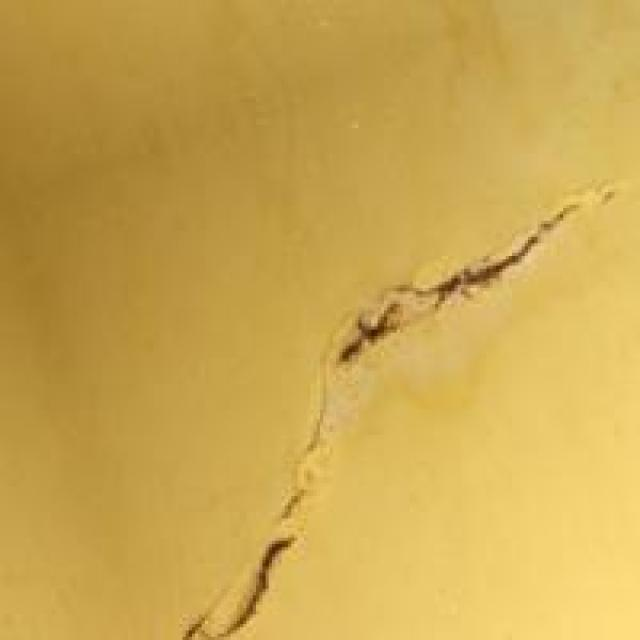Crack: (157, 192, 624, 637)
